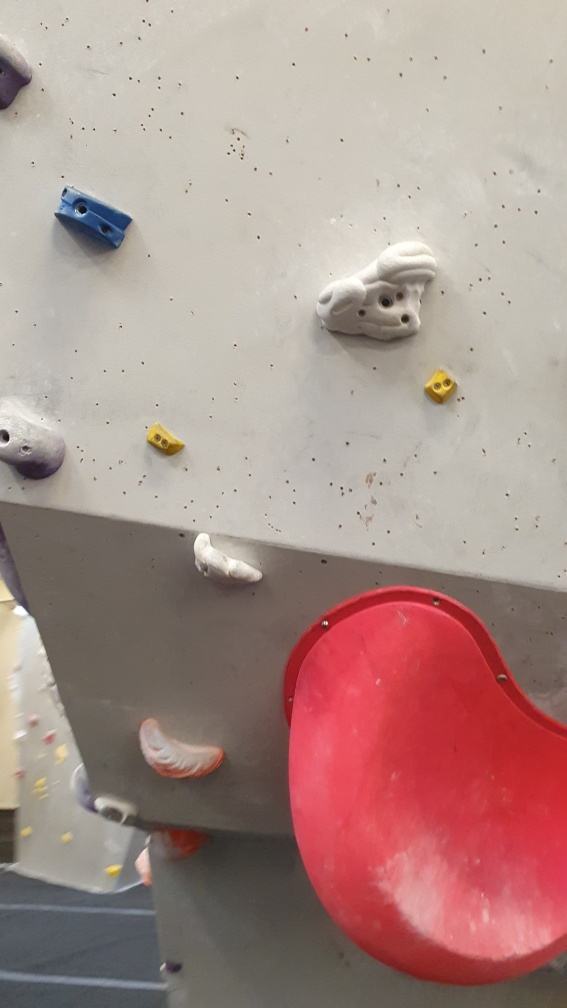Crimp: (143, 420, 187, 460)
Jug: (312, 241, 442, 350), (135, 713, 230, 780), (191, 531, 266, 595)
Pinch: (52, 177, 137, 254), (422, 364, 464, 410)
Sloper: (1, 403, 75, 486)
